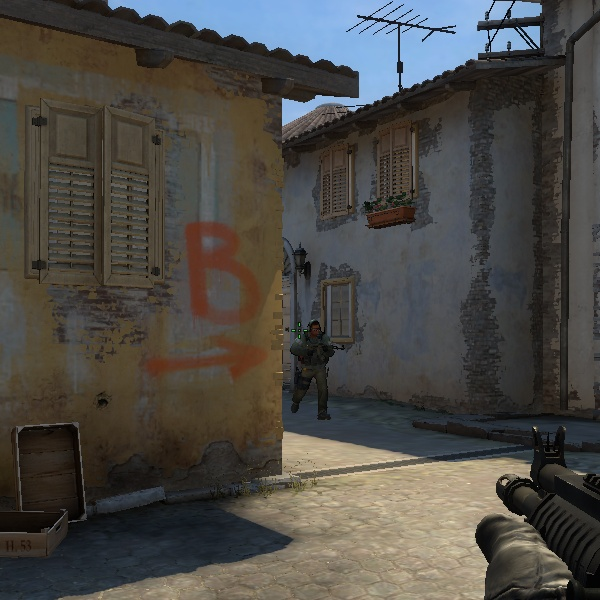ct_body: (283, 317, 343, 423)
